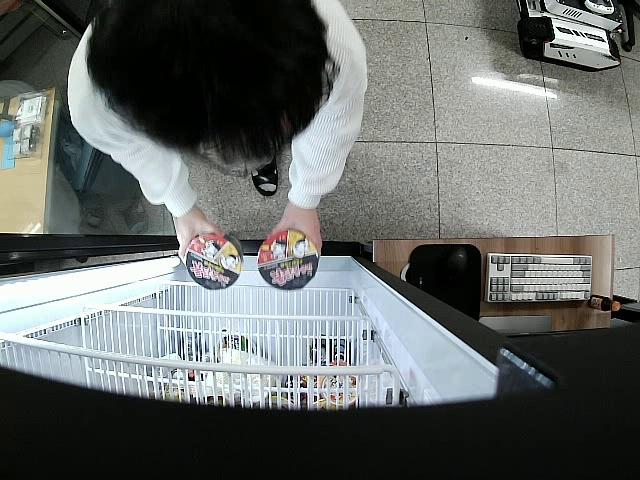00_hand: (268, 207, 323, 262), (174, 214, 222, 263)
07_buldak_L: (257, 231, 319, 291), (186, 231, 243, 291)
